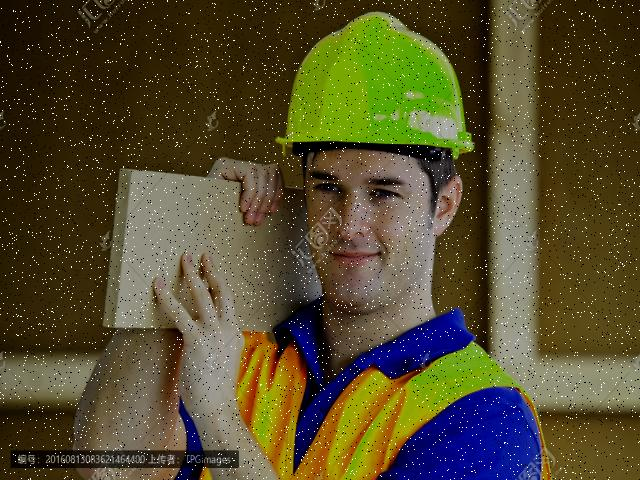Helmet: (271, 4, 479, 165)
